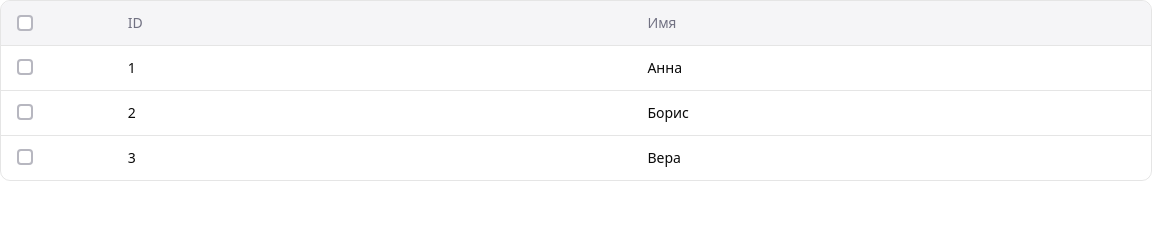
Test: Table bulkActions › кнопка «Снять выделение» очищает выбор
Click the checkbox named "Выбрать все" at [25, 23], box [17, 15, 33, 31]
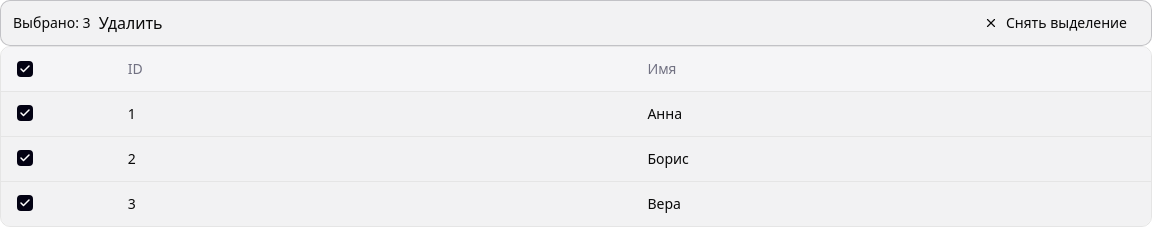
Expected: the text "Выбрано: 3" is shown, [13, 13, 91, 33]
Click the button "Снять выделение" at [1056, 23], box [972, 7, 1139, 39]
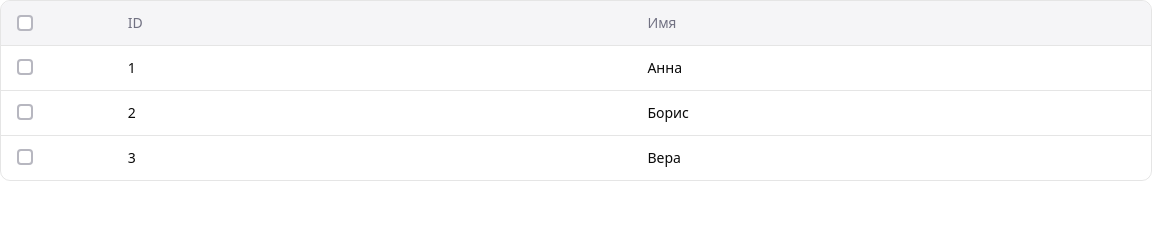
Expected: the checkbox named "Выбрать строку" in the row of "Анна" is not checked, [17, 58, 33, 74]
